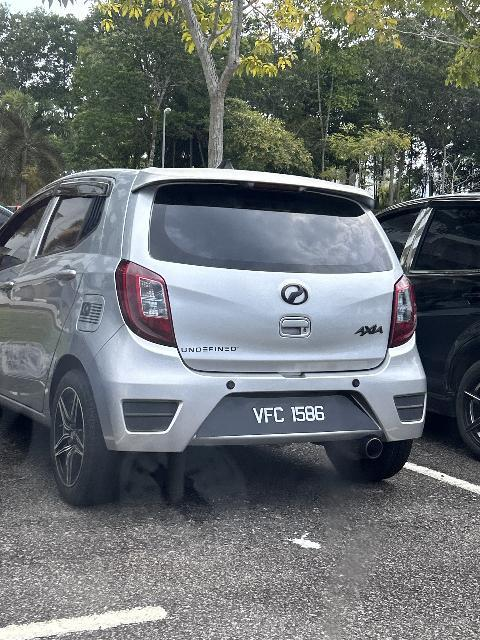License_Plate: (228, 398, 358, 440)
VFC1586: (228, 398, 358, 440)
car: (2, 168, 419, 502)
